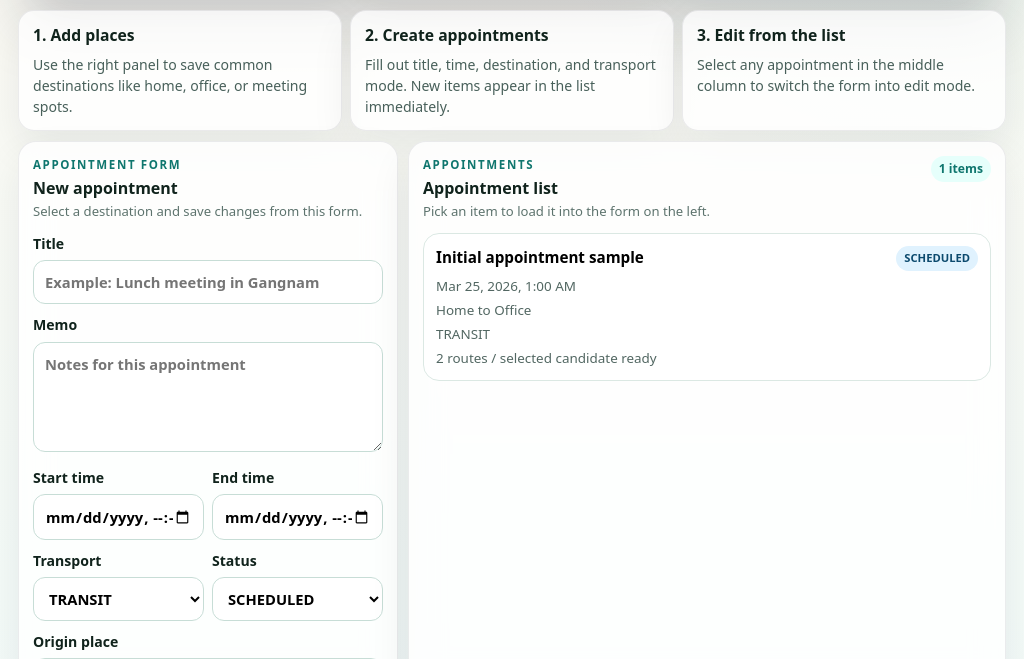
Test: SchedulerDashboardPage › shows route action errors inside the route section
(page scrolled)
Click the button "Initial appointment sample" at (540, 257), box [423,233,991,381]
(page scrolled)
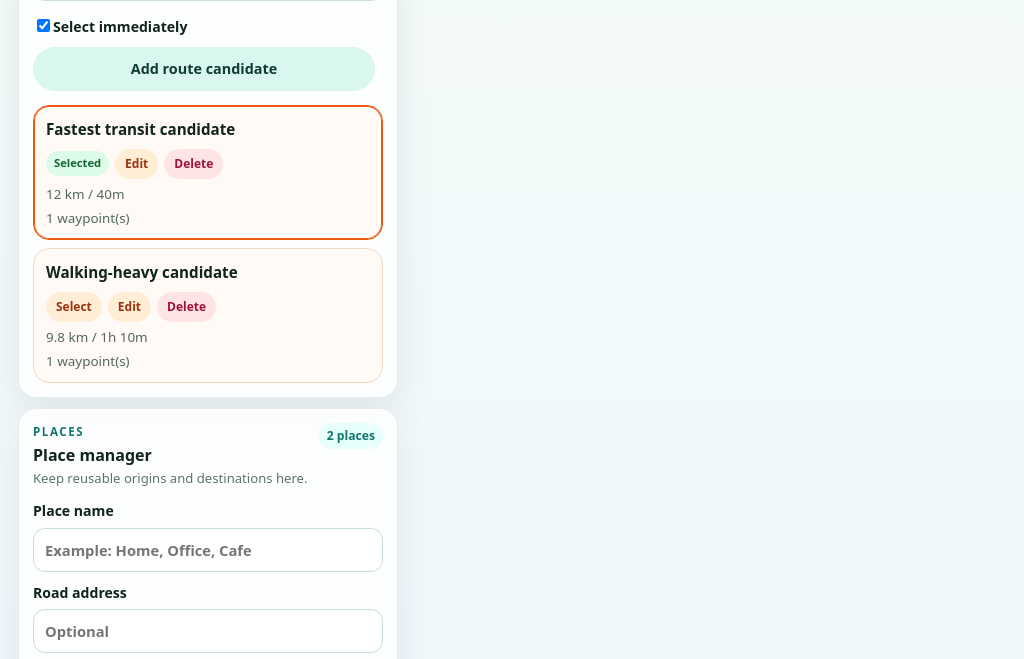
Click the button "Select" at (74, 307), box [46,292,102,322]
(page scrolled)
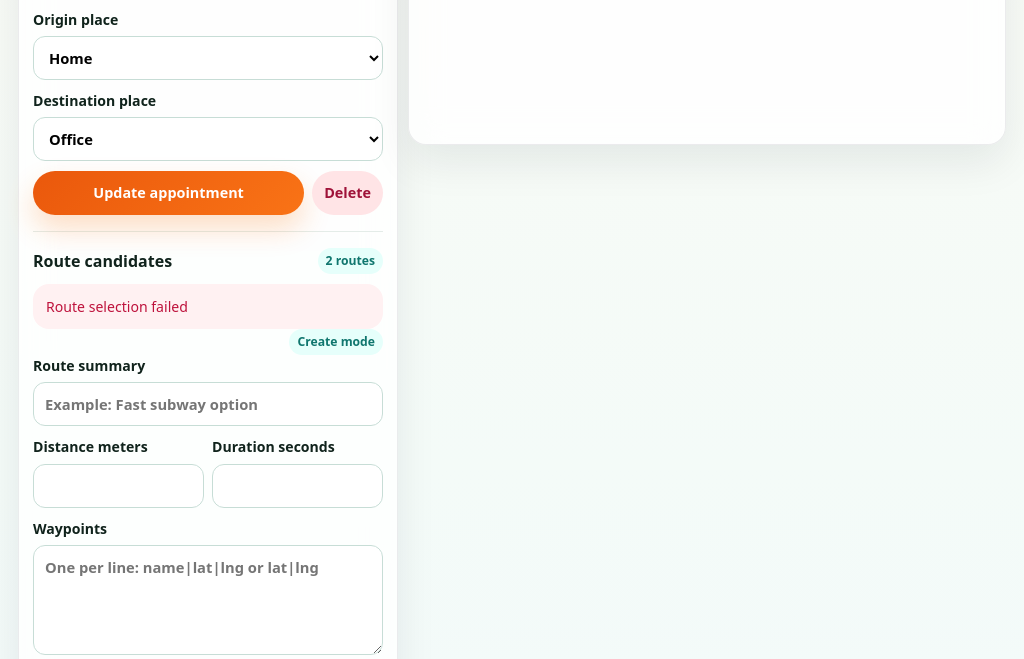
Expected: the text "Route selection failed" is shown, [33,284,383,329]
